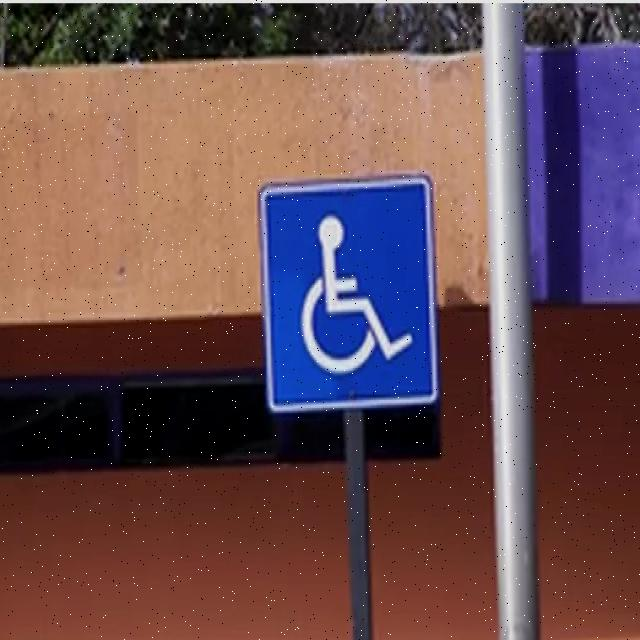symbol_of_access: (255, 171, 442, 417)
